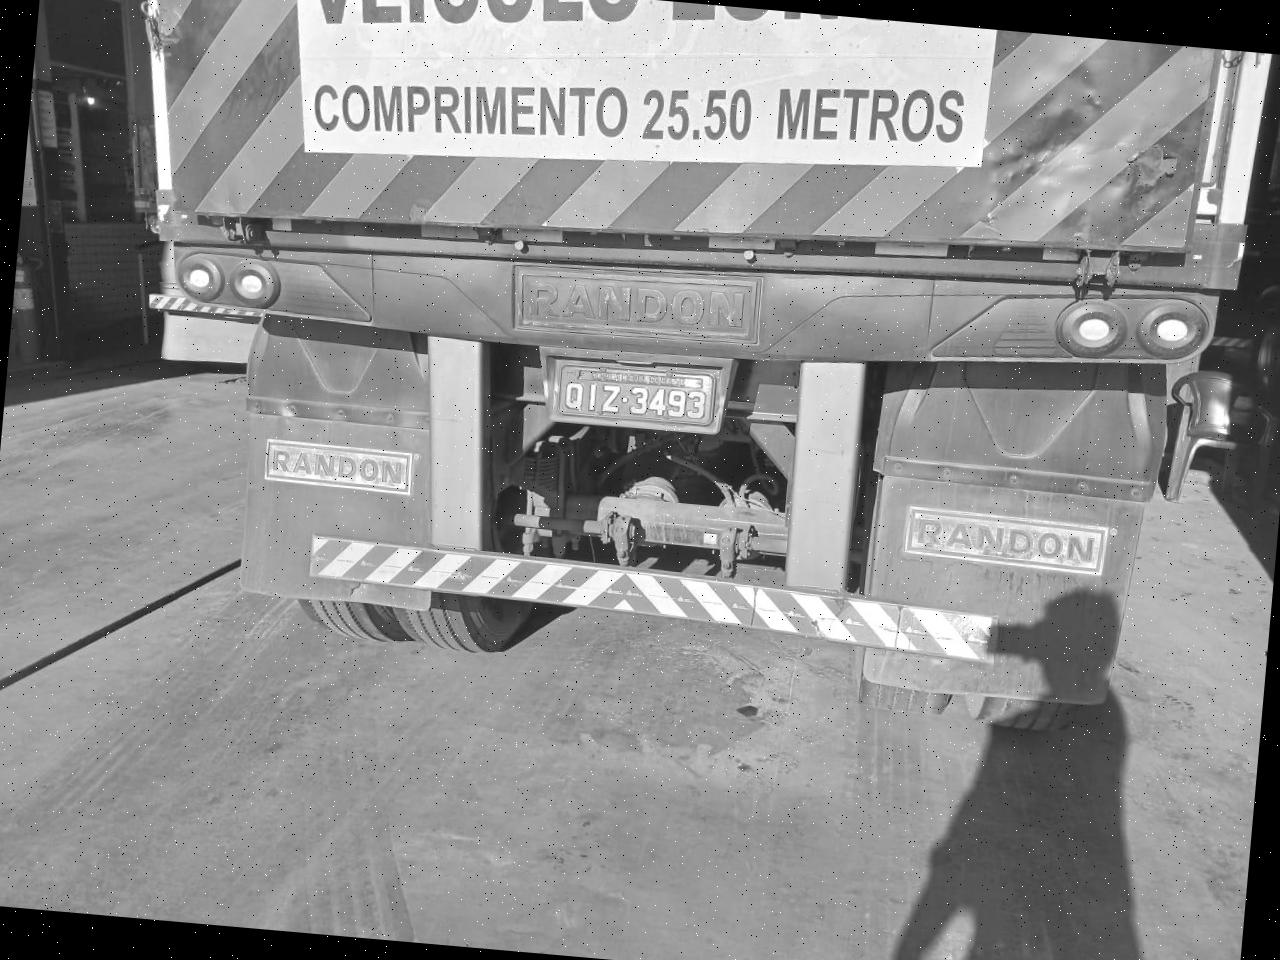placa_antiga: (557, 362, 724, 431)
